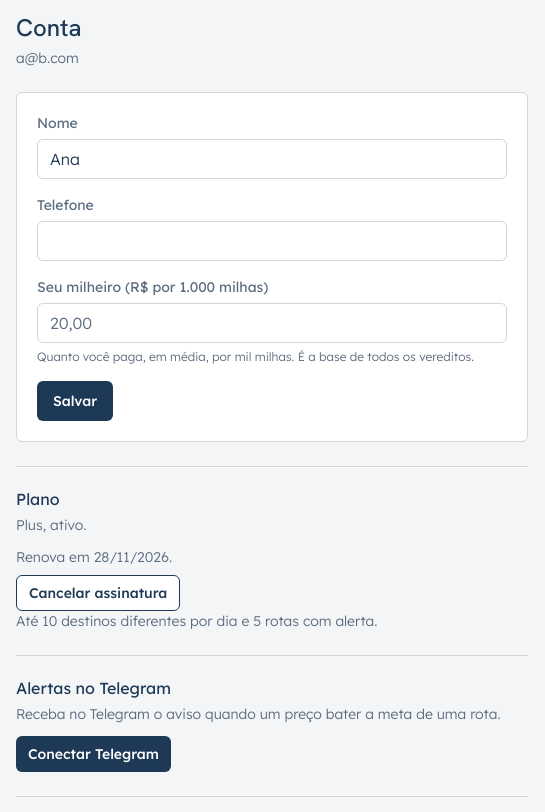
Test case: Conta: Telegram › mostra o erro quando não dá para conectar
Click the button "Conectar Telegram". click: coordinates (93, 754)
box: [16, 736, 171, 772]
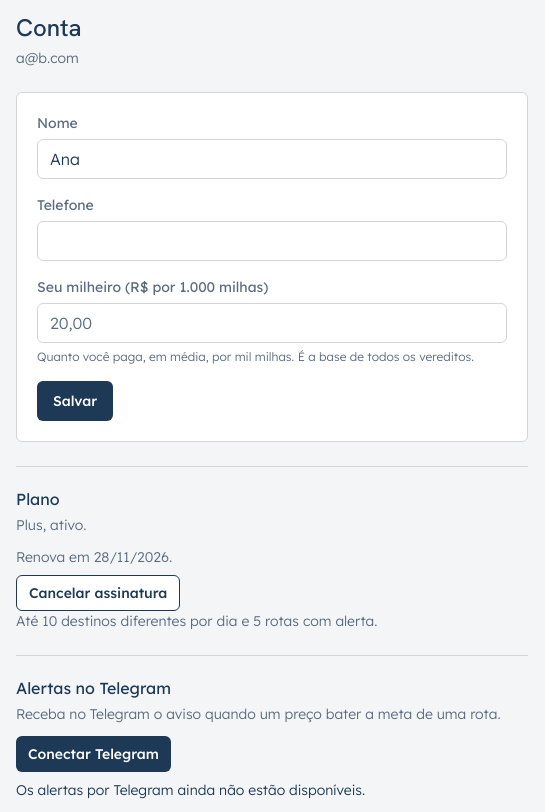
Expected: the text "Os alertas por Telegram ainda não estão disponíveis." is shown, [16, 781, 365, 799]
